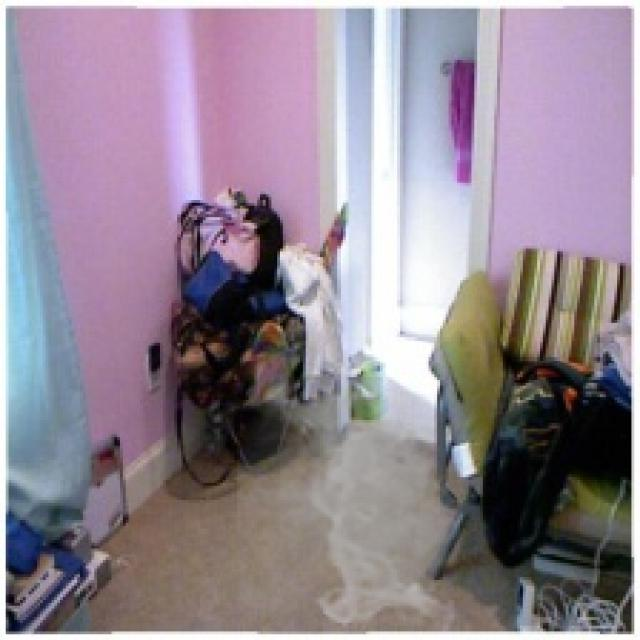smoke: (237, 372, 469, 632)
